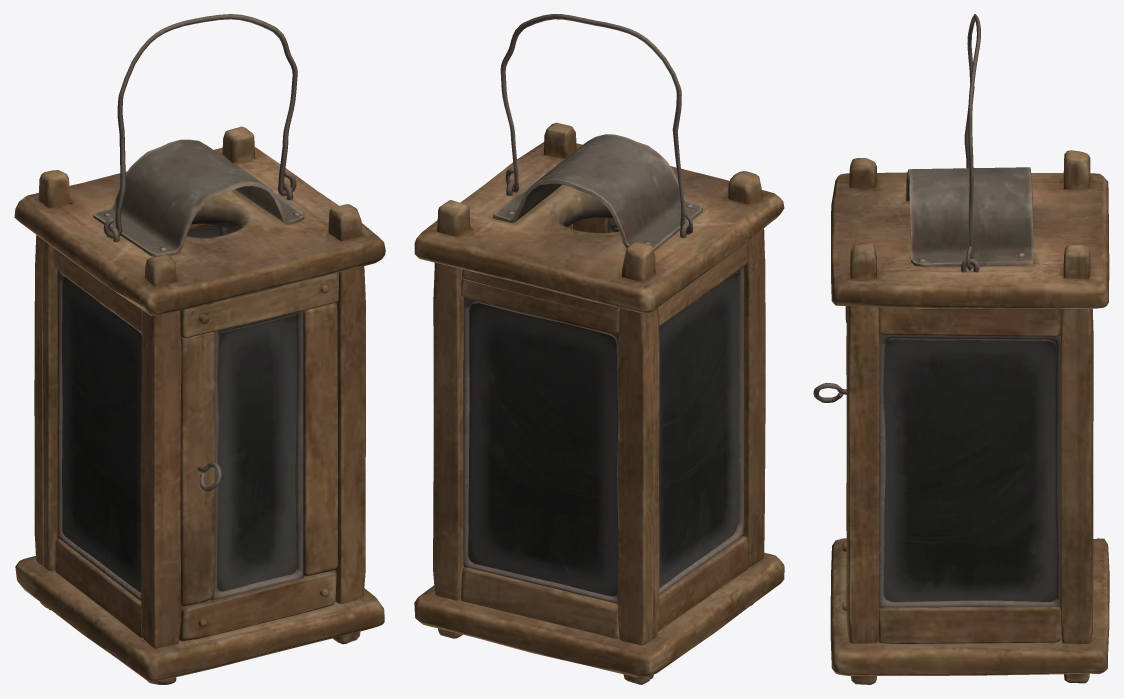
File: wooden_lantern_01.gltf
The picture shows the model from 3 angles, left to right: view 1: azimuth 30°, elevation 25°; view 2: azimuth 150°, elevation 25°; view 3: azimuth 270°, elevation 25°; orthographic projection.
Parts seen in each view (by area): view 1: wooden_lantern_01, wooden_lantern_01_door, wooden_lantern_01_handle; view 2: wooden_lantern_01, wooden_lantern_01_handle, wooden_lantern_01_door; view 3: wooden_lantern_01, wooden_lantern_01_handle, wooden_lantern_01_door.
Boxes of the visible parts, x1,y1,x2,y2 form: wooden_lantern_01: (14,126,385,684); wooden_lantern_01_door: (179,272,339,641); wooden_lantern_01_handle: (103,14,297,238); wooden_lantern_01: (414,122,784,684); wooden_lantern_01_handle: (500,14,692,234); wooden_lantern_01_door: (573,217,618,233); wooden_lantern_01: (830,150,1109,684); wooden_lantern_01_handle: (964,14,980,270); wooden_lantern_01_door: (813,306,847,610).
Bounding box in the file's own units: 0.221 × 0.5301 × 0.2347.
2 materials, 2 textured.
